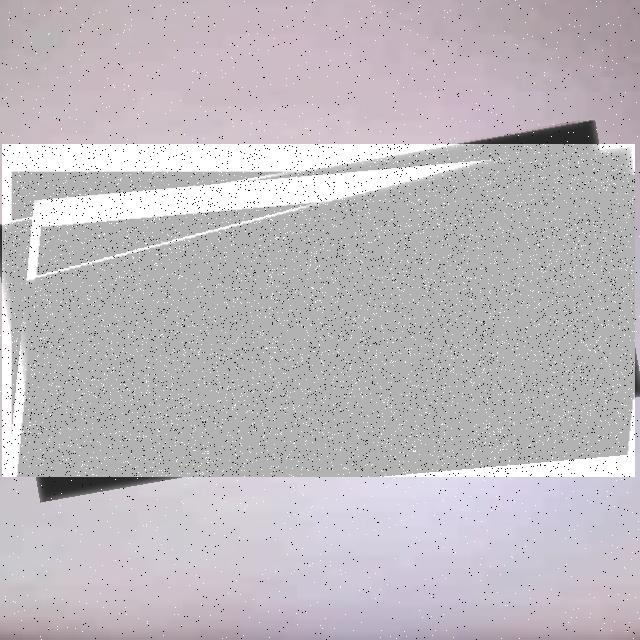lima puluh ribu rupiah: (2, 144, 635, 477)
